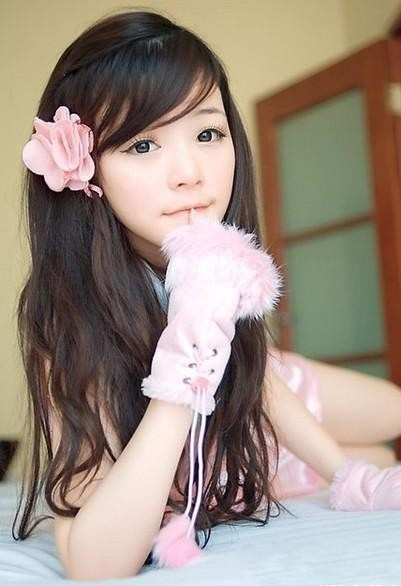face: (102, 55, 235, 253)
